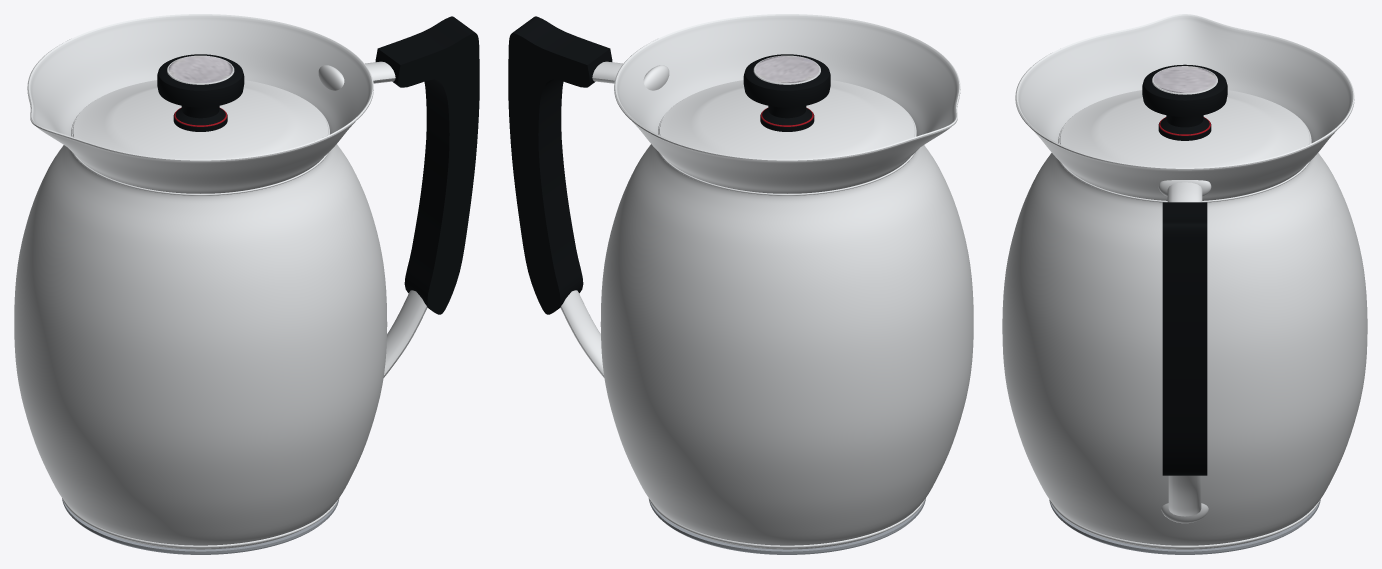
Rendered from chocolatera-v03.glb.
3 renders of one model, left to right at view 1: azimuth 30°, elevation 25°; view 2: azimuth 150°, elevation 25°; view 3: azimuth 270°, elevation 25°, orthographic. The views are drawn at different scales.
Parts seen in each view (by area): view 1: Cuerpo hueco · perfil abombado y boca ensanchada, Asa negra · agarre curvado, Tapa de acero · disco y resalte, Pomo negro · cabeza circular, Base plana de inducción, Soporte metálico inferior curvado, Royal Prestige · emblema del pomo desde foto, Pomo negro · cuello, Borde inferior enrollado, Unión cuello y embudo; view 2: Cuerpo hueco · perfil abombado y boca ensanchada, Asa negra · agarre curvado, Tapa de acero · disco y resalte, Pomo negro · cabeza circular, Base plana de inducción, Soporte metálico inferior curvado, Royal Prestige · emblema del pomo desde foto, Pomo negro · cuello, Borde inferior enrollado, Unión cuello y embudo; view 3: Cuerpo hueco · perfil abombado y boca ensanchada, Asa negra · agarre curvado, Tapa de acero · disco y resalte, Pomo negro · cabeza circular, Base plana de inducción, Soporte metálico inferior curvado, Royal Prestige · emblema del pomo desde foto, Pomo negro · cuello, Borde inferior enrollado, Soporte metálico superior del asa, Unión cuello y embudo.
Boxes of the visible parts, <box> form: Cuerpo hueco · perfil abombado y boca ensanchada: <box>14,14,387,549</box>; Asa negra · agarre curvado: <box>375,16,479,314</box>; Tapa de acero · disco y resalte: <box>72,80,328,159</box>; Pomo negro · cabeza circular: <box>157,54,244,107</box>; Base plana de inducción: <box>62,498,338,554</box>; Soporte metálico inferior curvado: <box>383,290,427,377</box>; Royal Prestige · emblema del pomo desde foto: <box>168,56,232,82</box>; Pomo negro · cuello: <box>173,106,227,131</box>; Borde inferior enrollado: <box>62,498,339,548</box>; Unión cuello y embudo: <box>72,152,328,195</box>; Cuerpo hueco · perfil abombado y boca ensanchada: <box>600,14,973,549</box>; Asa negra · agarre curvado: <box>508,16,612,314</box>; Tapa de acero · disco y resalte: <box>659,80,915,159</box>; Pomo negro · cabeza circular: <box>743,54,830,107</box>; Base plana de inducción: <box>649,498,925,554</box>; Soporte metálico inferior curvado: <box>560,290,604,377</box>; Royal Prestige · emblema del pomo desde foto: <box>755,56,819,82</box>; Pomo negro · cuello: <box>760,106,814,131</box>; Borde inferior enrollado: <box>648,498,925,548</box>; Unión cuello y embudo: <box>659,152,915,195</box>; Cuerpo hueco · perfil abombado y boca ensanchada: <box>1002,14,1367,549</box>; Asa negra · agarre curvado: <box>1162,202,1207,475</box>; Tapa de acero · disco y resalte: <box>1059,90,1310,167</box>; Pomo negro · cabeza circular: <box>1142,64,1227,116</box>; Base plana de inducción: <box>1049,500,1320,554</box>; Soporte metálico inferior curvado: <box>1168,475,1201,516</box>; Royal Prestige · emblema del pomo desde foto: <box>1153,66,1216,92</box>; Pomo negro · cuello: <box>1158,115,1211,140</box>; Borde inferior enrollado: <box>1049,499,1320,548</box>; Soporte metálico superior del asa: <box>1167,182,1202,202</box>; Unión cuello y embudo: <box>1059,161,1310,202</box>.
Bounding box in the file's own units: 0.2418 × 0.2285 × 0.18.
6 materials, 1 textured.
